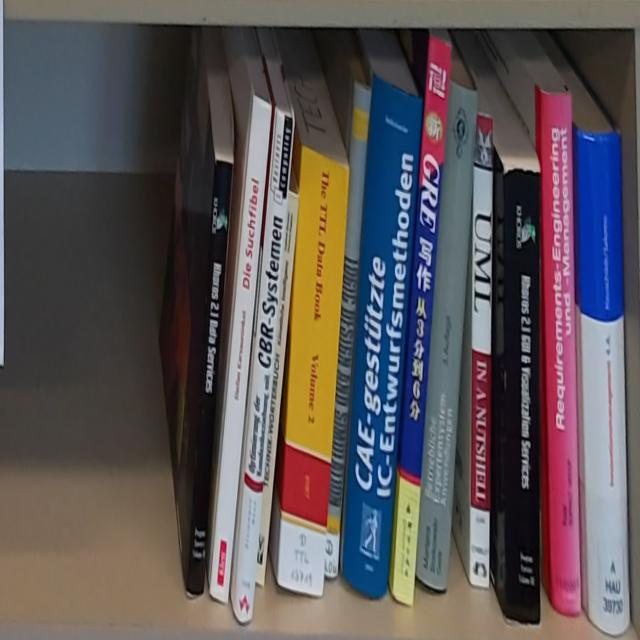Book Spine: (344, 72, 424, 594), (389, 31, 454, 607), (228, 105, 293, 626), (276, 145, 349, 596), (207, 98, 270, 605), (419, 80, 478, 588), (572, 133, 630, 636), (326, 81, 375, 584), (182, 162, 234, 601), (538, 94, 581, 609), (502, 161, 541, 619), (467, 112, 497, 596), (275, 183, 303, 471)
